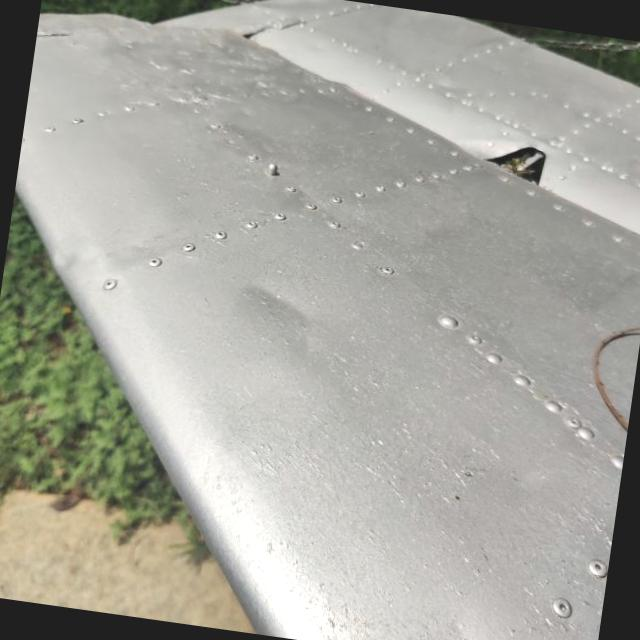dent: (208, 246, 349, 366), (15, 216, 110, 310)
